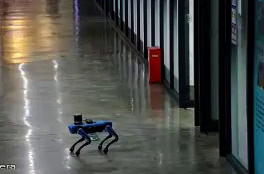robot dog: (67, 111, 120, 160)
